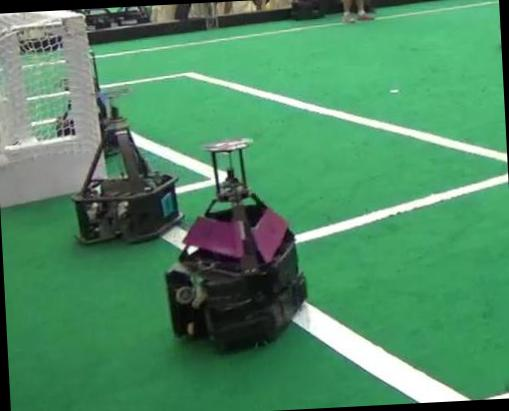robot: (165, 138, 306, 348), (73, 93, 181, 243)
